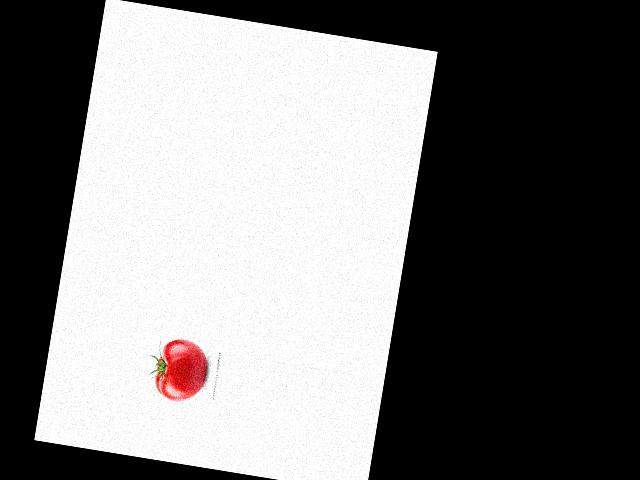tomato: (153, 336, 210, 405)
